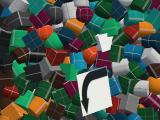Left: (76, 66, 112, 116)
